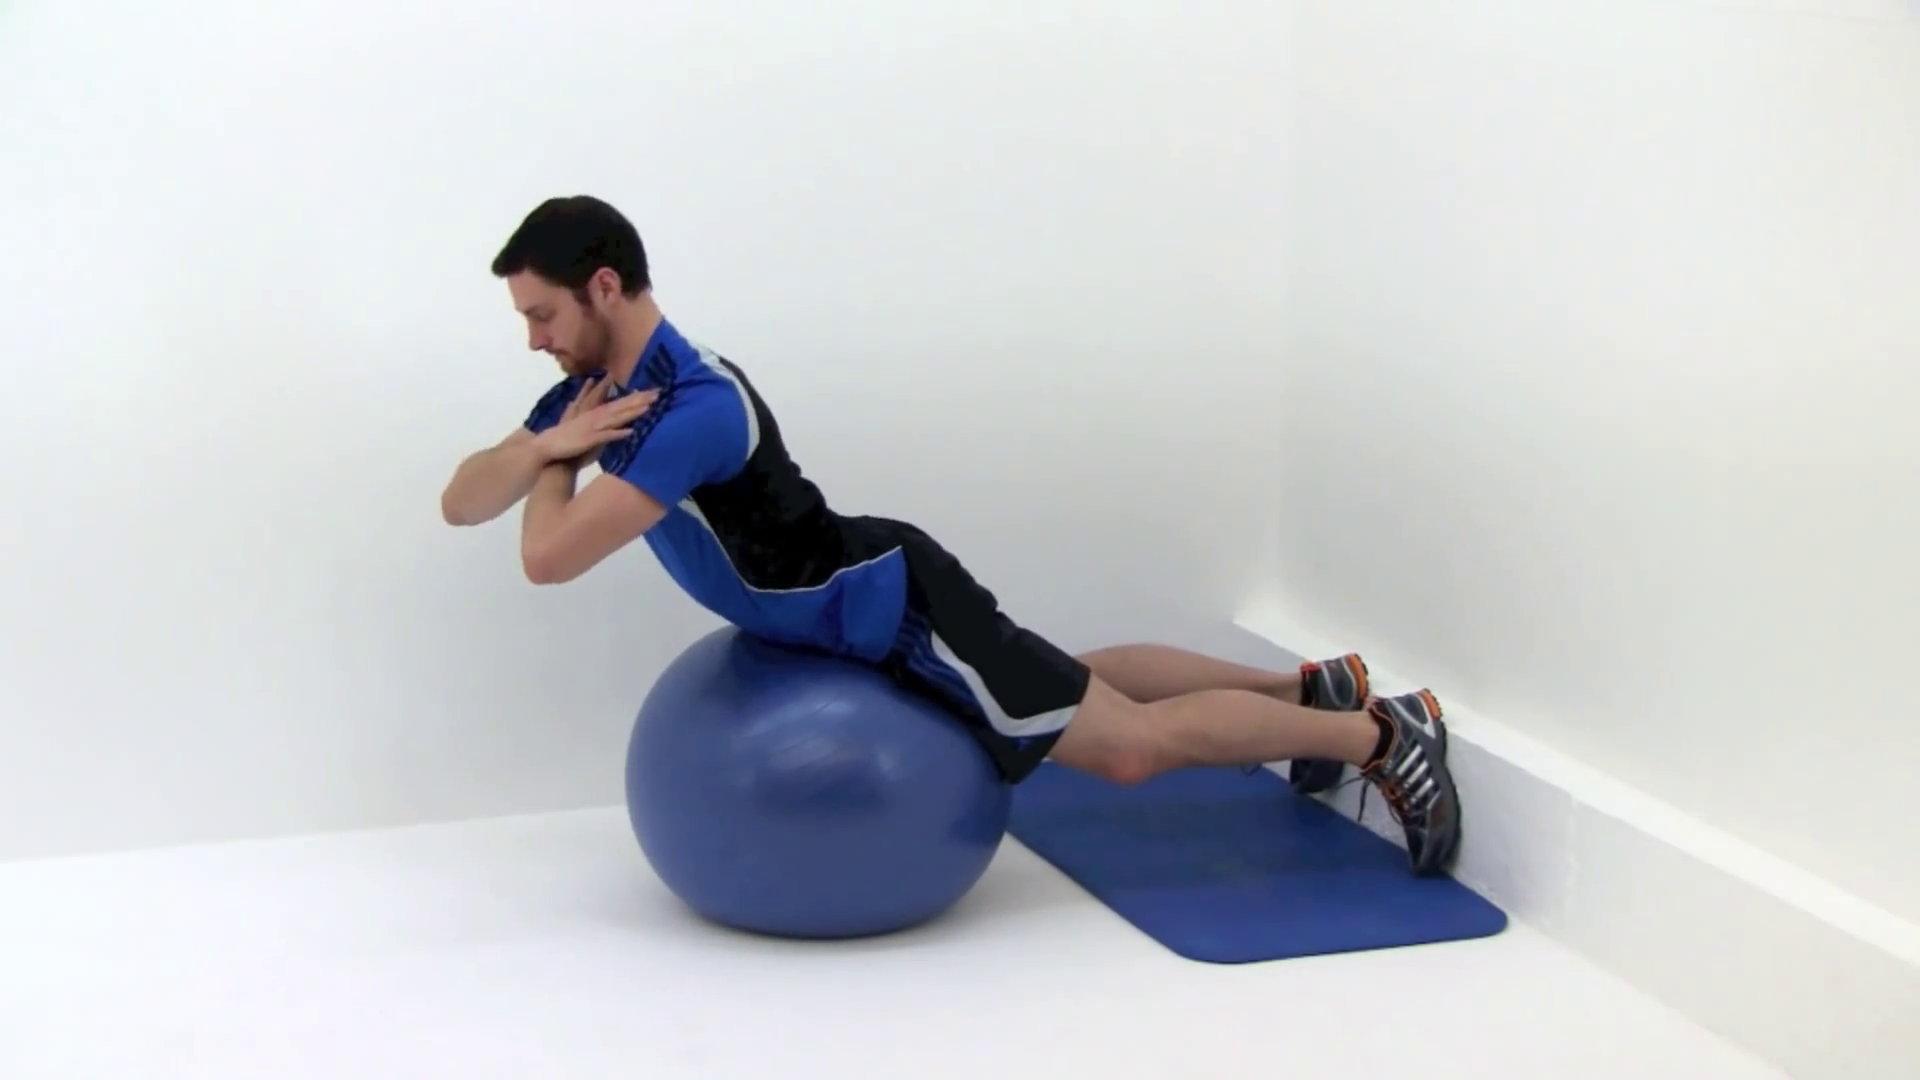yogaball: (595, 616, 1035, 953)
